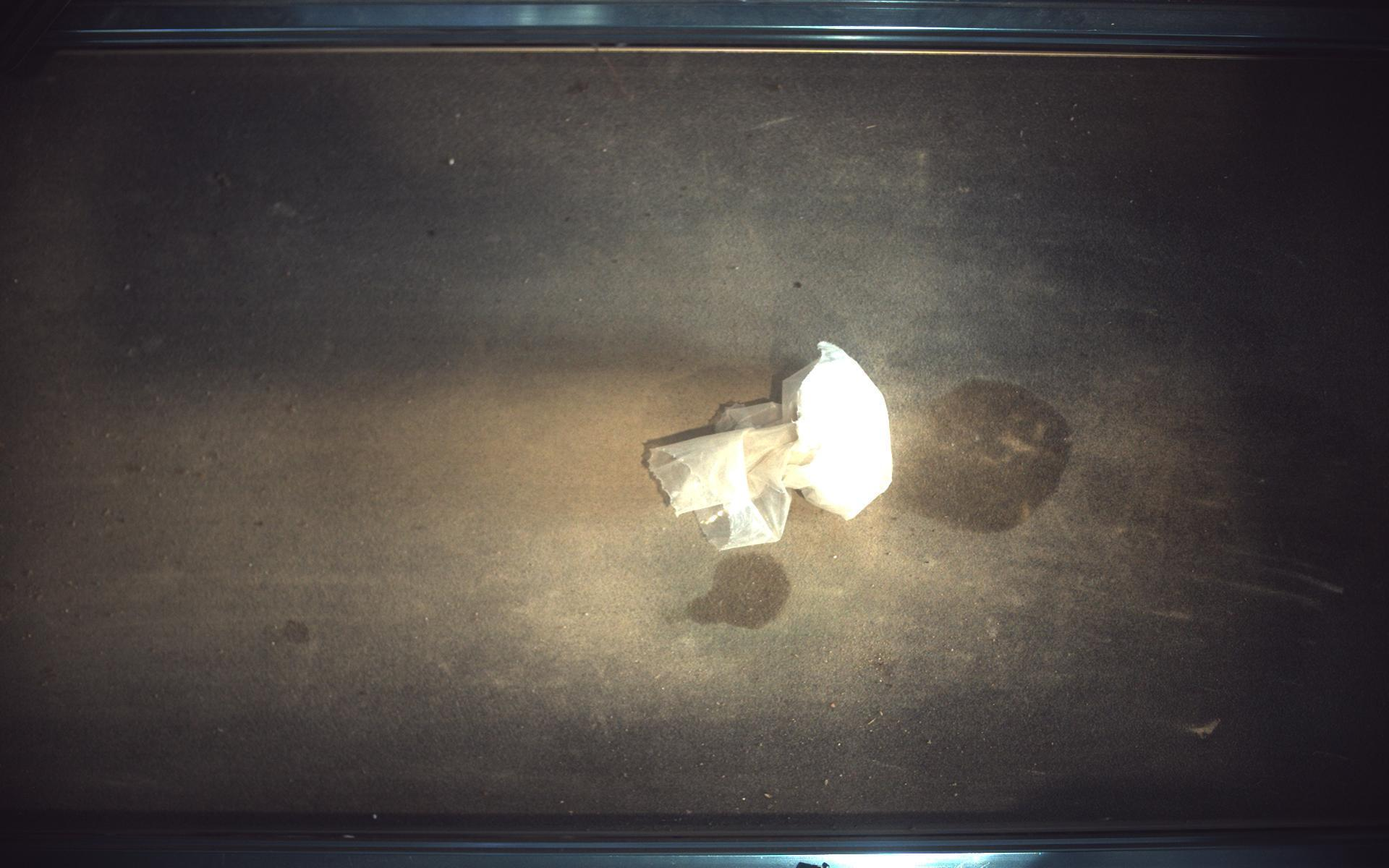general_w: (648, 341, 894, 550)
